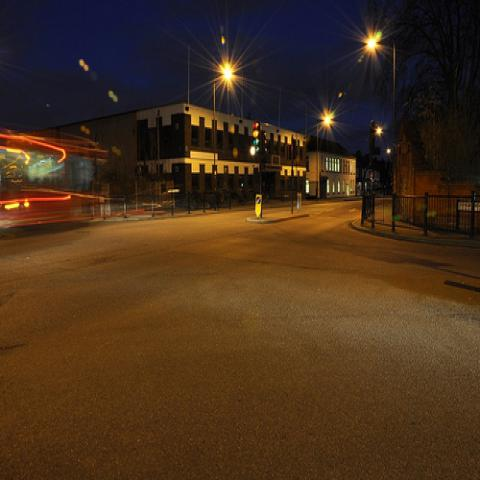bus: (1, 129, 110, 228)
